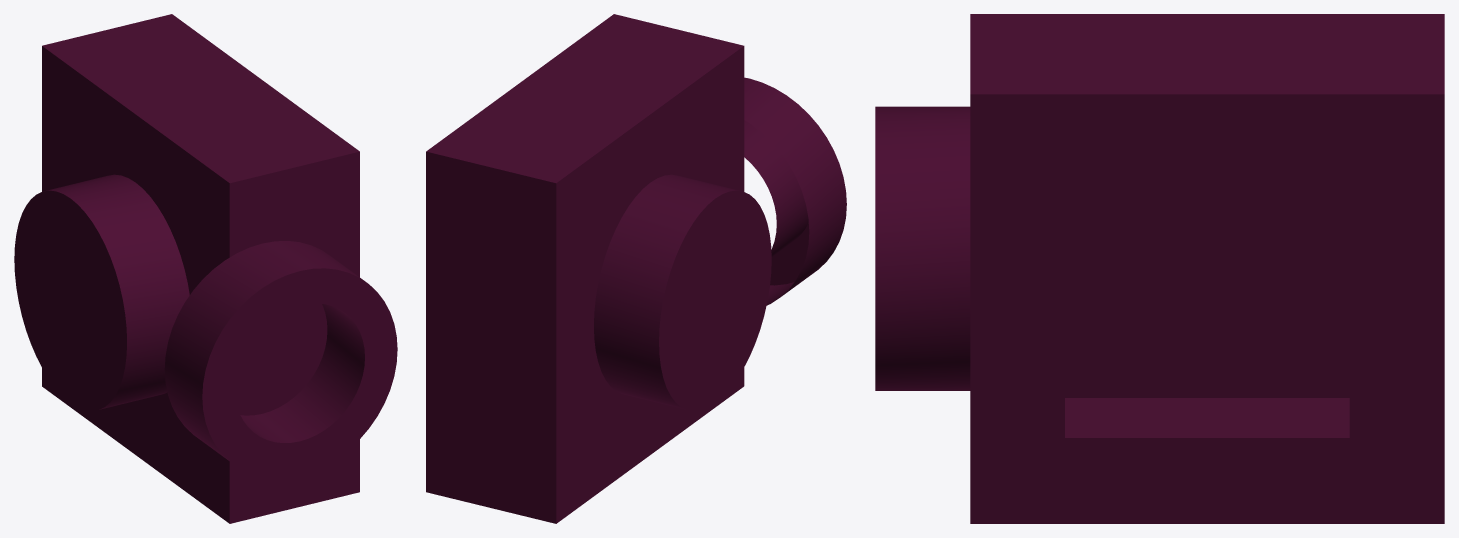
File: plate1*1_magenta.obj
The picture shows the model from 3 angles, left to right: view 1: azimuth 30°, elevation 25°; view 2: azimuth 150°, elevation 25°; view 3: azimuth 270°, elevation 25°; orthographic projection. The views are drawn at different scales.
Size of the model in its own units: 12 by 20 by 24.
